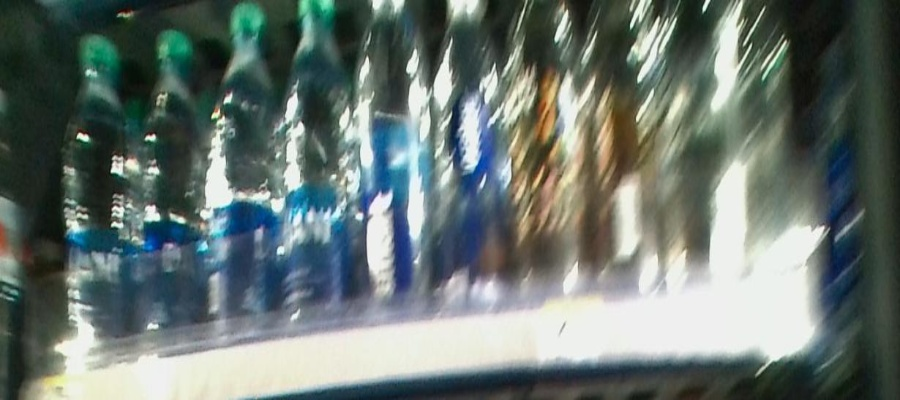bottle: (353, 1, 432, 337), (281, 1, 350, 337), (438, 4, 504, 325), (64, 30, 128, 356), (209, 7, 271, 342), (140, 27, 205, 342)
